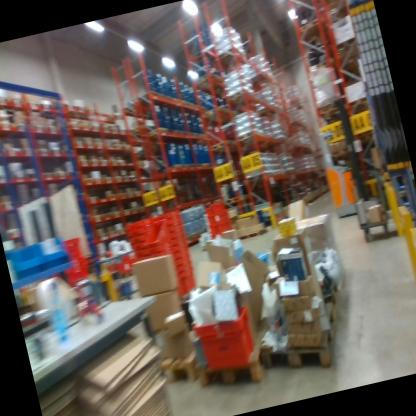forklift: (302, 84, 382, 224)
pallet: (184, 307, 288, 402), (254, 295, 352, 381), (138, 331, 221, 393), (289, 254, 352, 298), (185, 64, 223, 99), (197, 100, 234, 131), (183, 41, 215, 72), (329, 32, 363, 59), (295, 15, 329, 41), (208, 135, 240, 158)
small_load_carrier: (189, 300, 267, 373), (49, 230, 92, 269), (56, 254, 99, 287), (138, 218, 172, 254), (105, 251, 133, 277), (209, 219, 237, 241), (213, 203, 236, 229), (179, 268, 201, 294), (158, 204, 181, 224), (201, 207, 222, 228), (122, 215, 146, 230), (125, 225, 148, 239), (172, 277, 188, 296), (211, 198, 230, 213), (170, 238, 189, 252), (125, 233, 144, 246), (168, 230, 187, 242), (172, 248, 191, 260), (164, 216, 184, 227), (131, 240, 146, 254), (167, 223, 186, 234), (132, 250, 148, 263), (176, 256, 193, 268), (178, 264, 196, 272)
